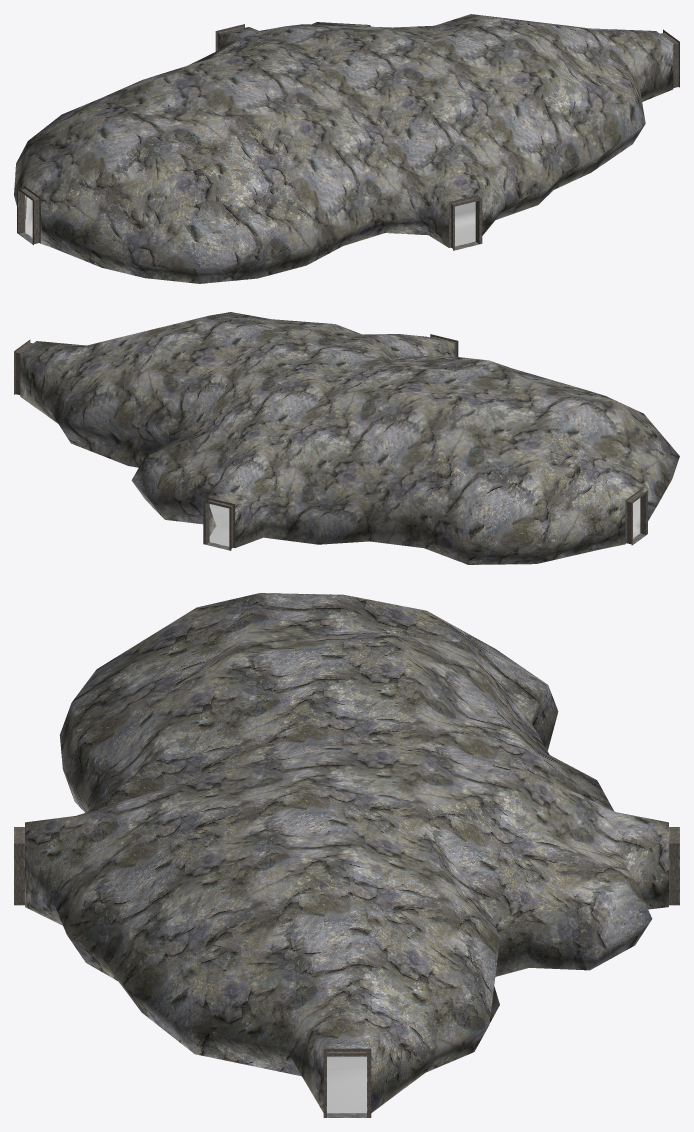
Rendered from RockyTunnel_unque2.FBX.
3 renders of one model, top to bottom at view 1: azimuth 30°, elevation 25°; view 2: azimuth 150°, elevation 25°; view 3: azimuth 270°, elevation 25°, orthographic. The views are drawn at different scales.
Parts seen in each view (by area): view 1: Object155; view 2: Object155; view 3: Object155.
Part boxes in pixels (box(x1,y1,x2,y2)): Object155: box(14, 14, 679, 283); Object155: box(14, 312, 679, 564); Object155: box(14, 593, 679, 1117).
Size of the model in its own units: 5506 by 1237 by 3500.
